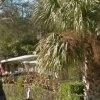Tree: (31, 0, 100, 81)
